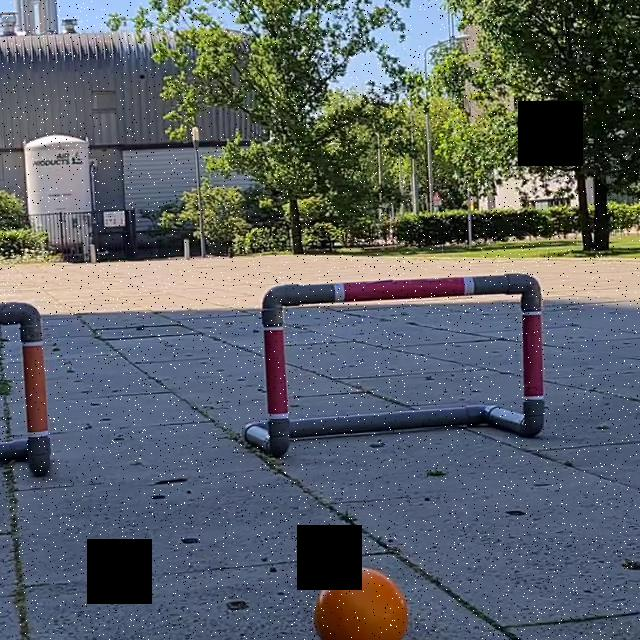ball: (312, 563, 408, 640)
